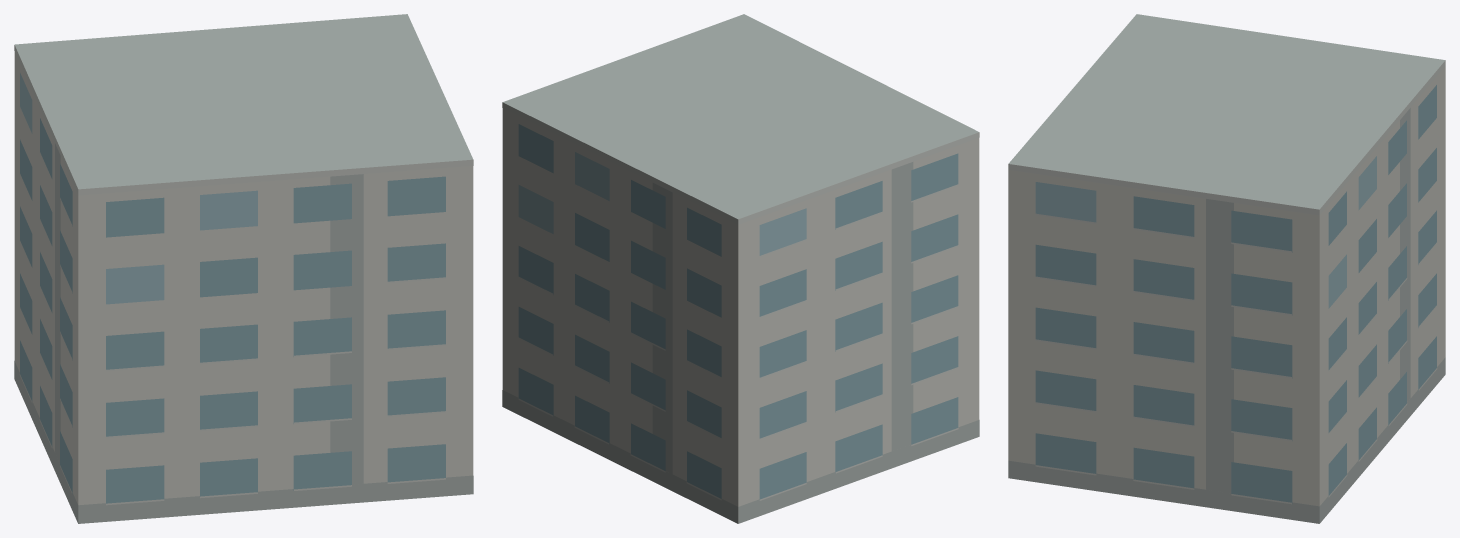
The model's file is survey-upis-32851881.glb.
3 renders of one model, left to right at view 1: azimuth 30°, elevation 25°; view 2: azimuth 150°, elevation 25°; view 3: azimuth 270°, elevation 25°, orthographic. The views are drawn at different scales.
Parts seen in each view (by area): view 1: survey-upis-32851881.tmp; view 2: survey-upis-32851881.tmp; view 3: survey-upis-32851881.tmp.
Part boxes in pixels (x1=…): survey-upis-32851881.tmp: x1=14, y1=14, x2=473, y2=523; survey-upis-32851881.tmp: x1=502, y1=14, x2=979, y2=523; survey-upis-32851881.tmp: x1=1008, y1=14, x2=1445, y2=523.
Size of the model in its own units: 17.56 by 13.15 by 16.59.
